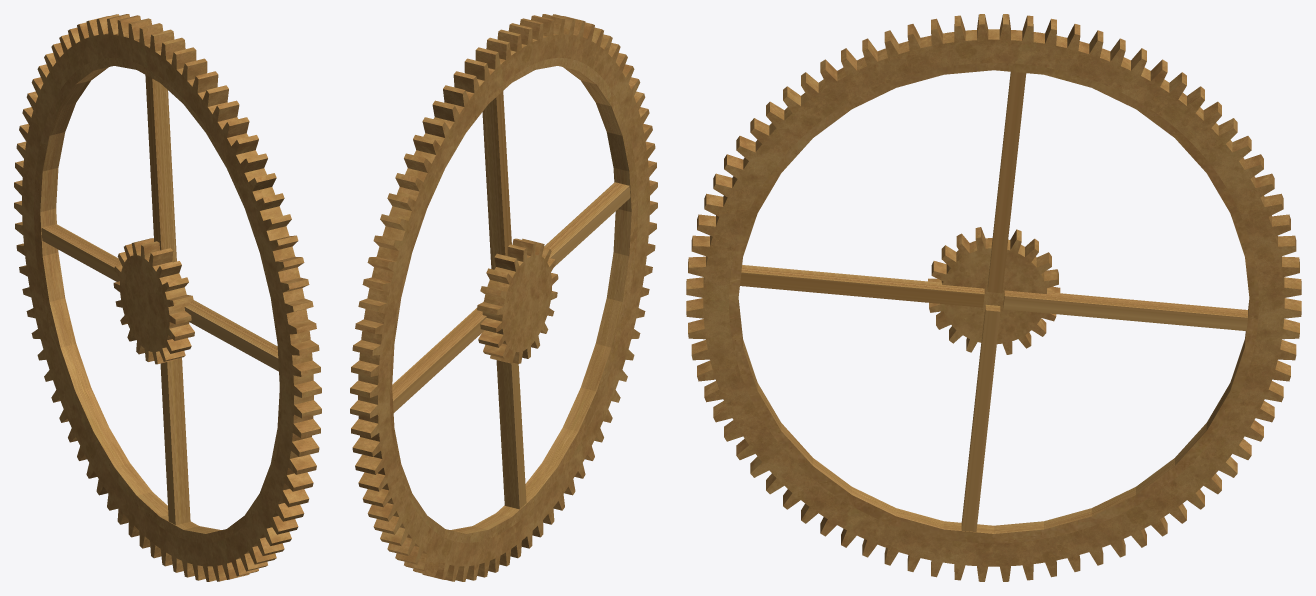
The model's file is MercureRouePrincipale.fbx.
3 renders of one model, left to right at view 1: azimuth 30°, elevation 25°; view 2: azimuth 150°, elevation 25°; view 3: azimuth 270°, elevation 25°, orthographic. The views are drawn at different scales.
Visible parts, largest first — view 1: GearGrande, ContourRouePrincipale, GearCentre; view 2: GearGrande, ContourRouePrincipale, GearCentre; view 3: GearGrande, ContourRouePrincipale, GearCentre.
Boxes of the visible parts, x1,y1,x2,y2 form: GearGrande: (14,14,321,581); ContourRouePrincipale: (34,58,281,542); GearCentre: (113,238,194,364); GearGrande: (350,14,657,581); ContourRouePrincipale: (390,58,637,542); GearCentre: (477,238,558,363); GearGrande: (686,14,1301,581); ContourRouePrincipale: (729,63,1258,543); GearCentre: (928,227,1060,354).
Size of the model in its own units: 16.7 by 251 by 251.
2 materials, 2 textured.
